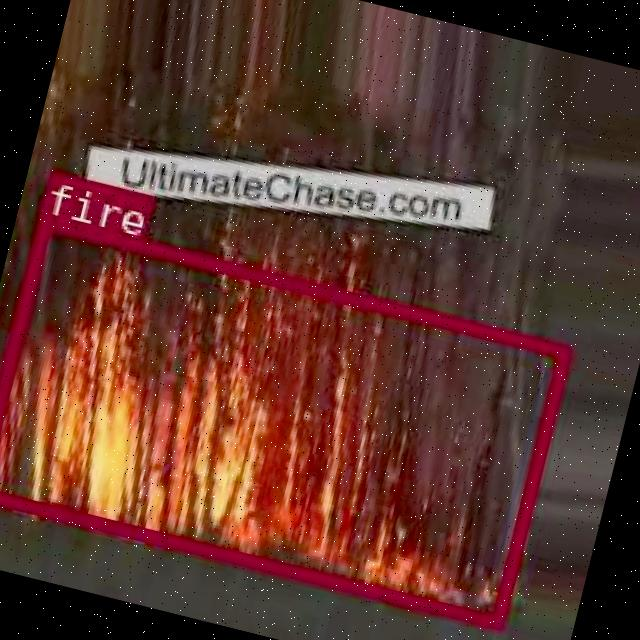fire: (0, 211, 569, 625)
